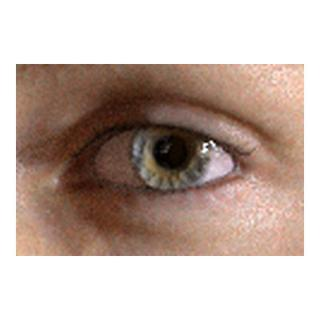pupil: (154, 136, 186, 168)
